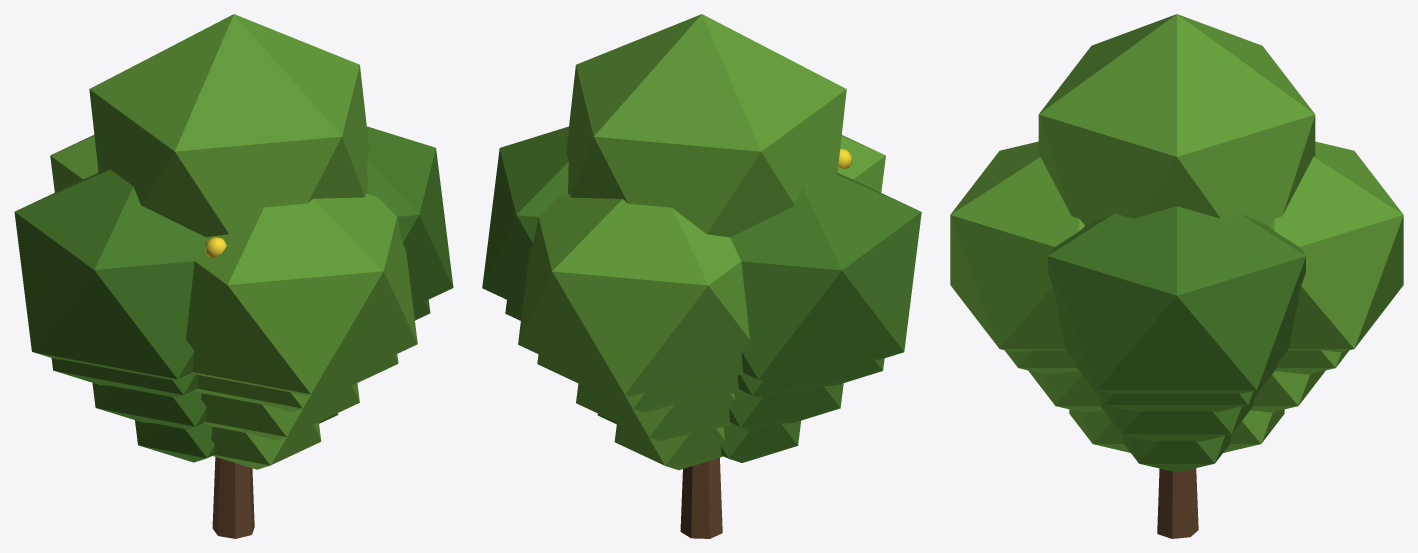
Rendered from Crop_Fruit_Lemon.fbx.
The picture shows the model from 3 angles, left to right: view 1: azimuth 30°, elevation 25°; view 2: azimuth 150°, elevation 25°; view 3: azimuth 270°, elevation 25°; orthographic projection.
Parts seen in each view (by area): view 1: Crop_Fruit_Lemon__S4, Crop_Fruit_Lemon__S2, Crop_Fruit_Lemon__S3, Crop_Fruit_Lemon__S1; view 2: Crop_Fruit_Lemon__S4, Crop_Fruit_Lemon__S2, Crop_Fruit_Lemon__S3, Crop_Fruit_Lemon__S1; view 3: Crop_Fruit_Lemon__S4, Crop_Fruit_Lemon__S2, Crop_Fruit_Lemon__S3, Crop_Fruit_Lemon__S1.
Part boxes in pixels (x1,y1,x2,y2): Crop_Fruit_Lemon__S4: [14, 14, 453, 538]; Crop_Fruit_Lemon__S2: [92, 383, 359, 440]; Crop_Fruit_Lemon__S3: [51, 299, 430, 411]; Crop_Fruit_Lemon__S1: [135, 413, 338, 469]; Crop_Fruit_Lemon__S4: [482, 14, 921, 538]; Crop_Fruit_Lemon__S2: [576, 383, 843, 440]; Crop_Fruit_Lemon__S3: [505, 300, 884, 412]; Crop_Fruit_Lemon__S1: [597, 413, 800, 470]; Crop_Fruit_Lemon__S4: [950, 14, 1403, 538]; Crop_Fruit_Lemon__S2: [1028, 370, 1325, 441]; Crop_Fruit_Lemon__S3: [1005, 350, 1348, 411]; Crop_Fruit_Lemon__S1: [1069, 409, 1284, 472].
Size of the model in its own units: 0.6887 by 0.84 by 0.6691.
